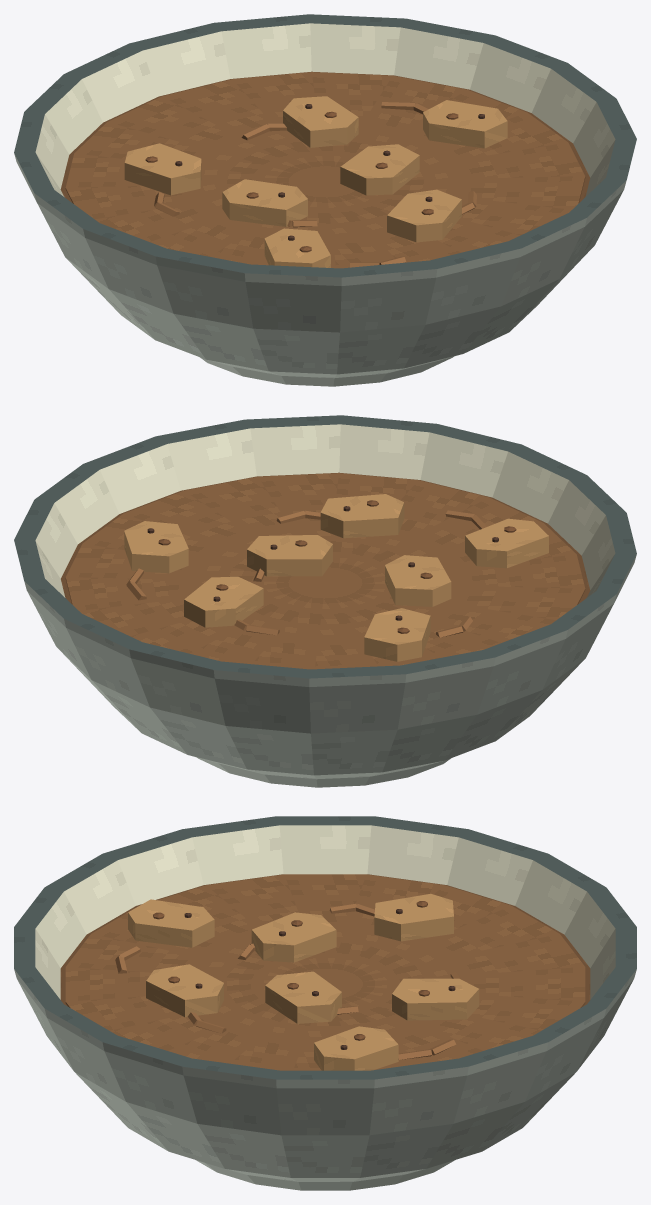
Rendered from hellfire_stew.glb.
The picture shows the model from 3 angles, top to bottom: view 1: azimuth 30°, elevation 25°; view 2: azimuth 150°, elevation 25°; view 3: azimuth 270°, elevation 25°; orthographic projection.
Parts seen in each view (by area): view 1: block_deep open soup bowl, block_soup surface, block_browned broken hardtack (×7), block_shaded liquid meniscus; view 2: block_deep open soup bowl, block_soup surface, block_browned broken hardtack (×7), block_shaded liquid meniscus; view 3: block_deep open soup bowl, block_soup surface, block_browned broken hardtack (×7), block_shaded liquid meniscus.
Part boxes in pixels (x1,y1,x2,y2): block_deep open soup bowl: (14,14,636,386); block_soup surface: (65,72,585,268); block_browned broken hardtack (×7): (124,96,507,267); block_shaded liquid meniscus: (60,71,589,202); block_deep open soup bowl: (14,415,636,787); block_soup surface: (65,473,585,669); block_browned broken hardtack (×7): (124,494,548,661); block_shaded liquid meniscus: (61,472,590,603); block_deep open soup bowl: (14,816,636,1190); block_soup surface: (65,874,585,1070); block_browned broken hardtack (×7): (128,893,479,1070); block_shaded liquid meniscus: (60,874,590,1006).
Size of the model in its own units: 0.114 by 0.0361 by 0.114.
1 material, 1 textured.
